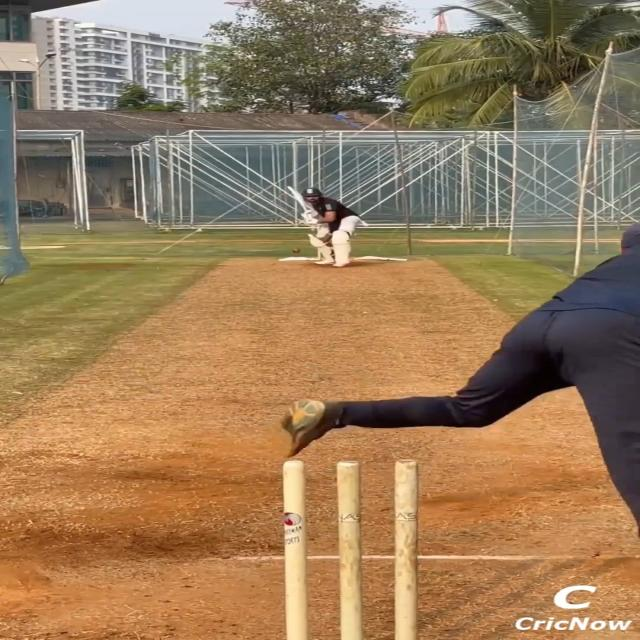ball: (292, 248, 300, 253)
stump: (281, 458, 423, 640)
